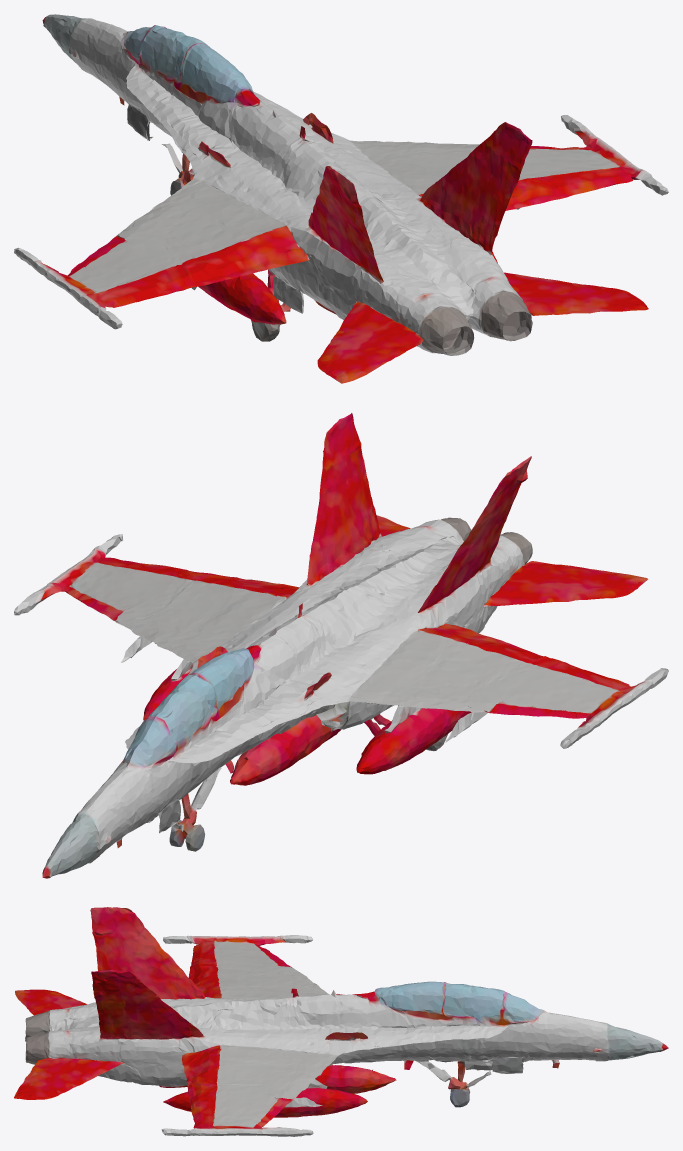
3 renders of one model, top to bottom at view 1: azimuth 30°, elevation 25°; view 2: azimuth 150°, elevation 25°; view 3: azimuth 270°, elevation 25°, orthographic. The views are drawn at different scales.
Visible parts, largest first — view 1: defaultobject; view 2: defaultobject; view 3: defaultobject.
Part boxes in pixels (bbox=[...]): defaultobject: bbox=[14, 14, 668, 383]; defaultobject: bbox=[14, 413, 668, 878]; defaultobject: bbox=[14, 907, 668, 1136].
Bounding box in the file's own units: 0.6719 × 0.2651 × 0.9489.
